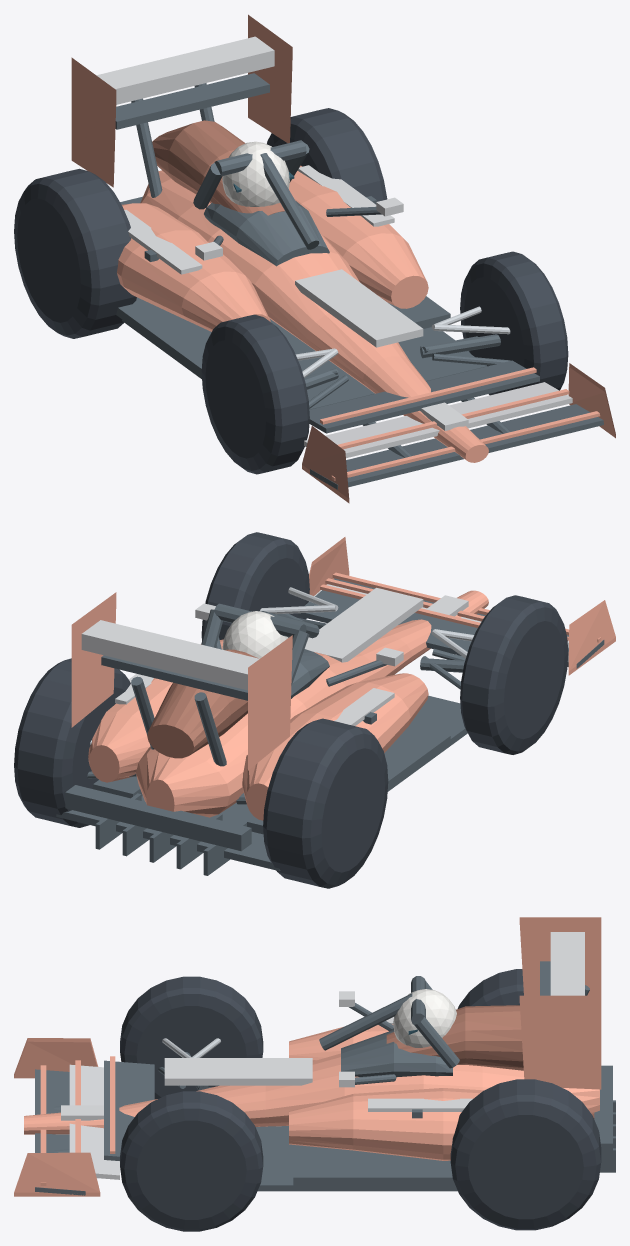
File: audi_high.glb
3 views of the same model, one above another, from view 1: azimuth 30°, elevation 25°; view 2: azimuth 150°, elevation 25°; view 3: azimuth 270°, elevation 25° (orthographic). The views are drawn at different scales.
Visible parts, largest first — view 1: BODY_paint, BODY_carbon, BODY_accent, RearLeftWheel_rubber, FrontLeftWheel_rubber, FrontRightWheel_rubber, RearRightWheel_rubber, BODY_paint_dark, BODY_helmet, BODY_metal; view 2: BODY_paint, BODY_carbon, RearLeftWheel_rubber, FrontLeftWheel_rubber, BODY_accent, RearRightWheel_rubber, FrontRightWheel_rubber, BODY_paint_dark, BODY_helmet, BODY_metal; view 3: BODY_paint, BODY_carbon, RearRightWheel_rubber, FrontRightWheel_rubber, BODY_accent, FrontLeftWheel_rubber, BODY_paint_dark, BODY_helmet, RearLeftWheel_rubber.
Part boxes in pixels (x1,y1,x2,y2): BODY_paint: (71,14,615,503); BODY_carbon: (115,73,603,489); BODY_accent: (96,36,572,458); RearLeftWheel_rubber: (14,168,136,338); FrontLeftWheel_rubber: (201,314,309,474); FrontRightWheel_rubber: (460,251,568,395); RearRightWheel_rubber: (267,108,387,201); BODY_paint_dark: (152,120,284,215); BODY_helmet: (222,141,289,206); BODY_metal: (295,306,510,377); BODY_paint: (71,537,615,820); BODY_carbon: (56,578,604,875); RearLeftWheel_rubber: (263,718,388,888); FrontLeftWheel_rubber: (460,595,568,754); BODY_accent: (81,584,568,725); RearRightWheel_rubber: (14,658,130,827); FrontRightWheel_rubber: (201,532,309,640); BODY_paint_dark: (147,649,258,758); BODY_helmet: (222,611,288,658); BODY_metal: (90,587,474,744); BODY_paint: (14,917,601,1196); BODY_carbon: (35,961,615,1195); RearRightWheel_rubber: (450,1079,601,1230); FrontRightWheel_rubber: (120,1091,263,1231); BODY_accent: (61,932,584,1179); FrontLeftWheel_rubber: (120,976,263,1099); BODY_paint_dark: (386,1005,523,1070); BODY_helmet: (393,989,456,1047); RearLeftWheel_rubber: (457,969,523,1008).
Size of the model in its own units: 2.59 by 1.9 by 4.88.
